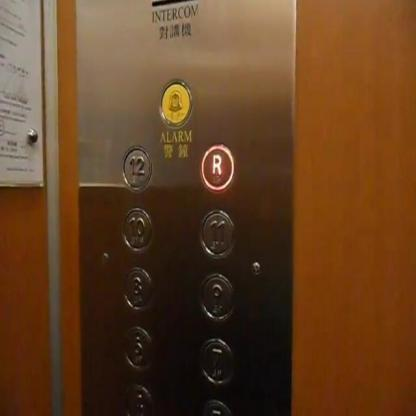10: (121, 206, 151, 250)
11: (199, 209, 234, 256)
12: (121, 144, 151, 189)
7: (199, 335, 234, 384)
8: (122, 265, 153, 310)
9: (199, 273, 233, 320)
R: (198, 143, 234, 192)
alarm: (158, 76, 192, 128)
blur: (121, 324, 152, 370)
